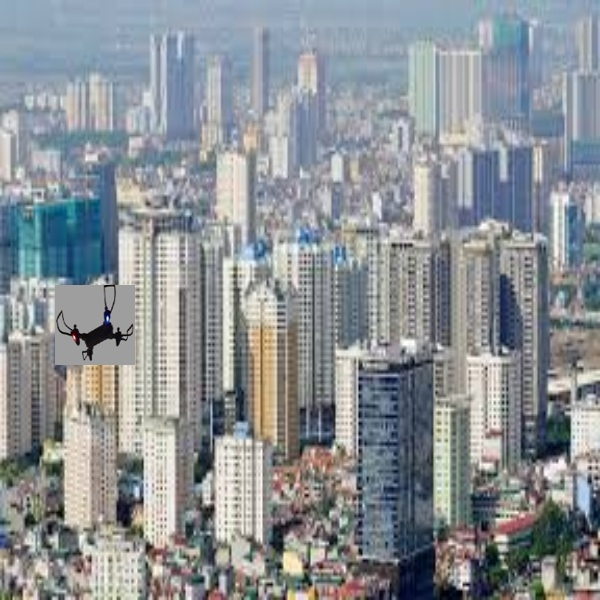drone: (55, 285, 135, 363)
